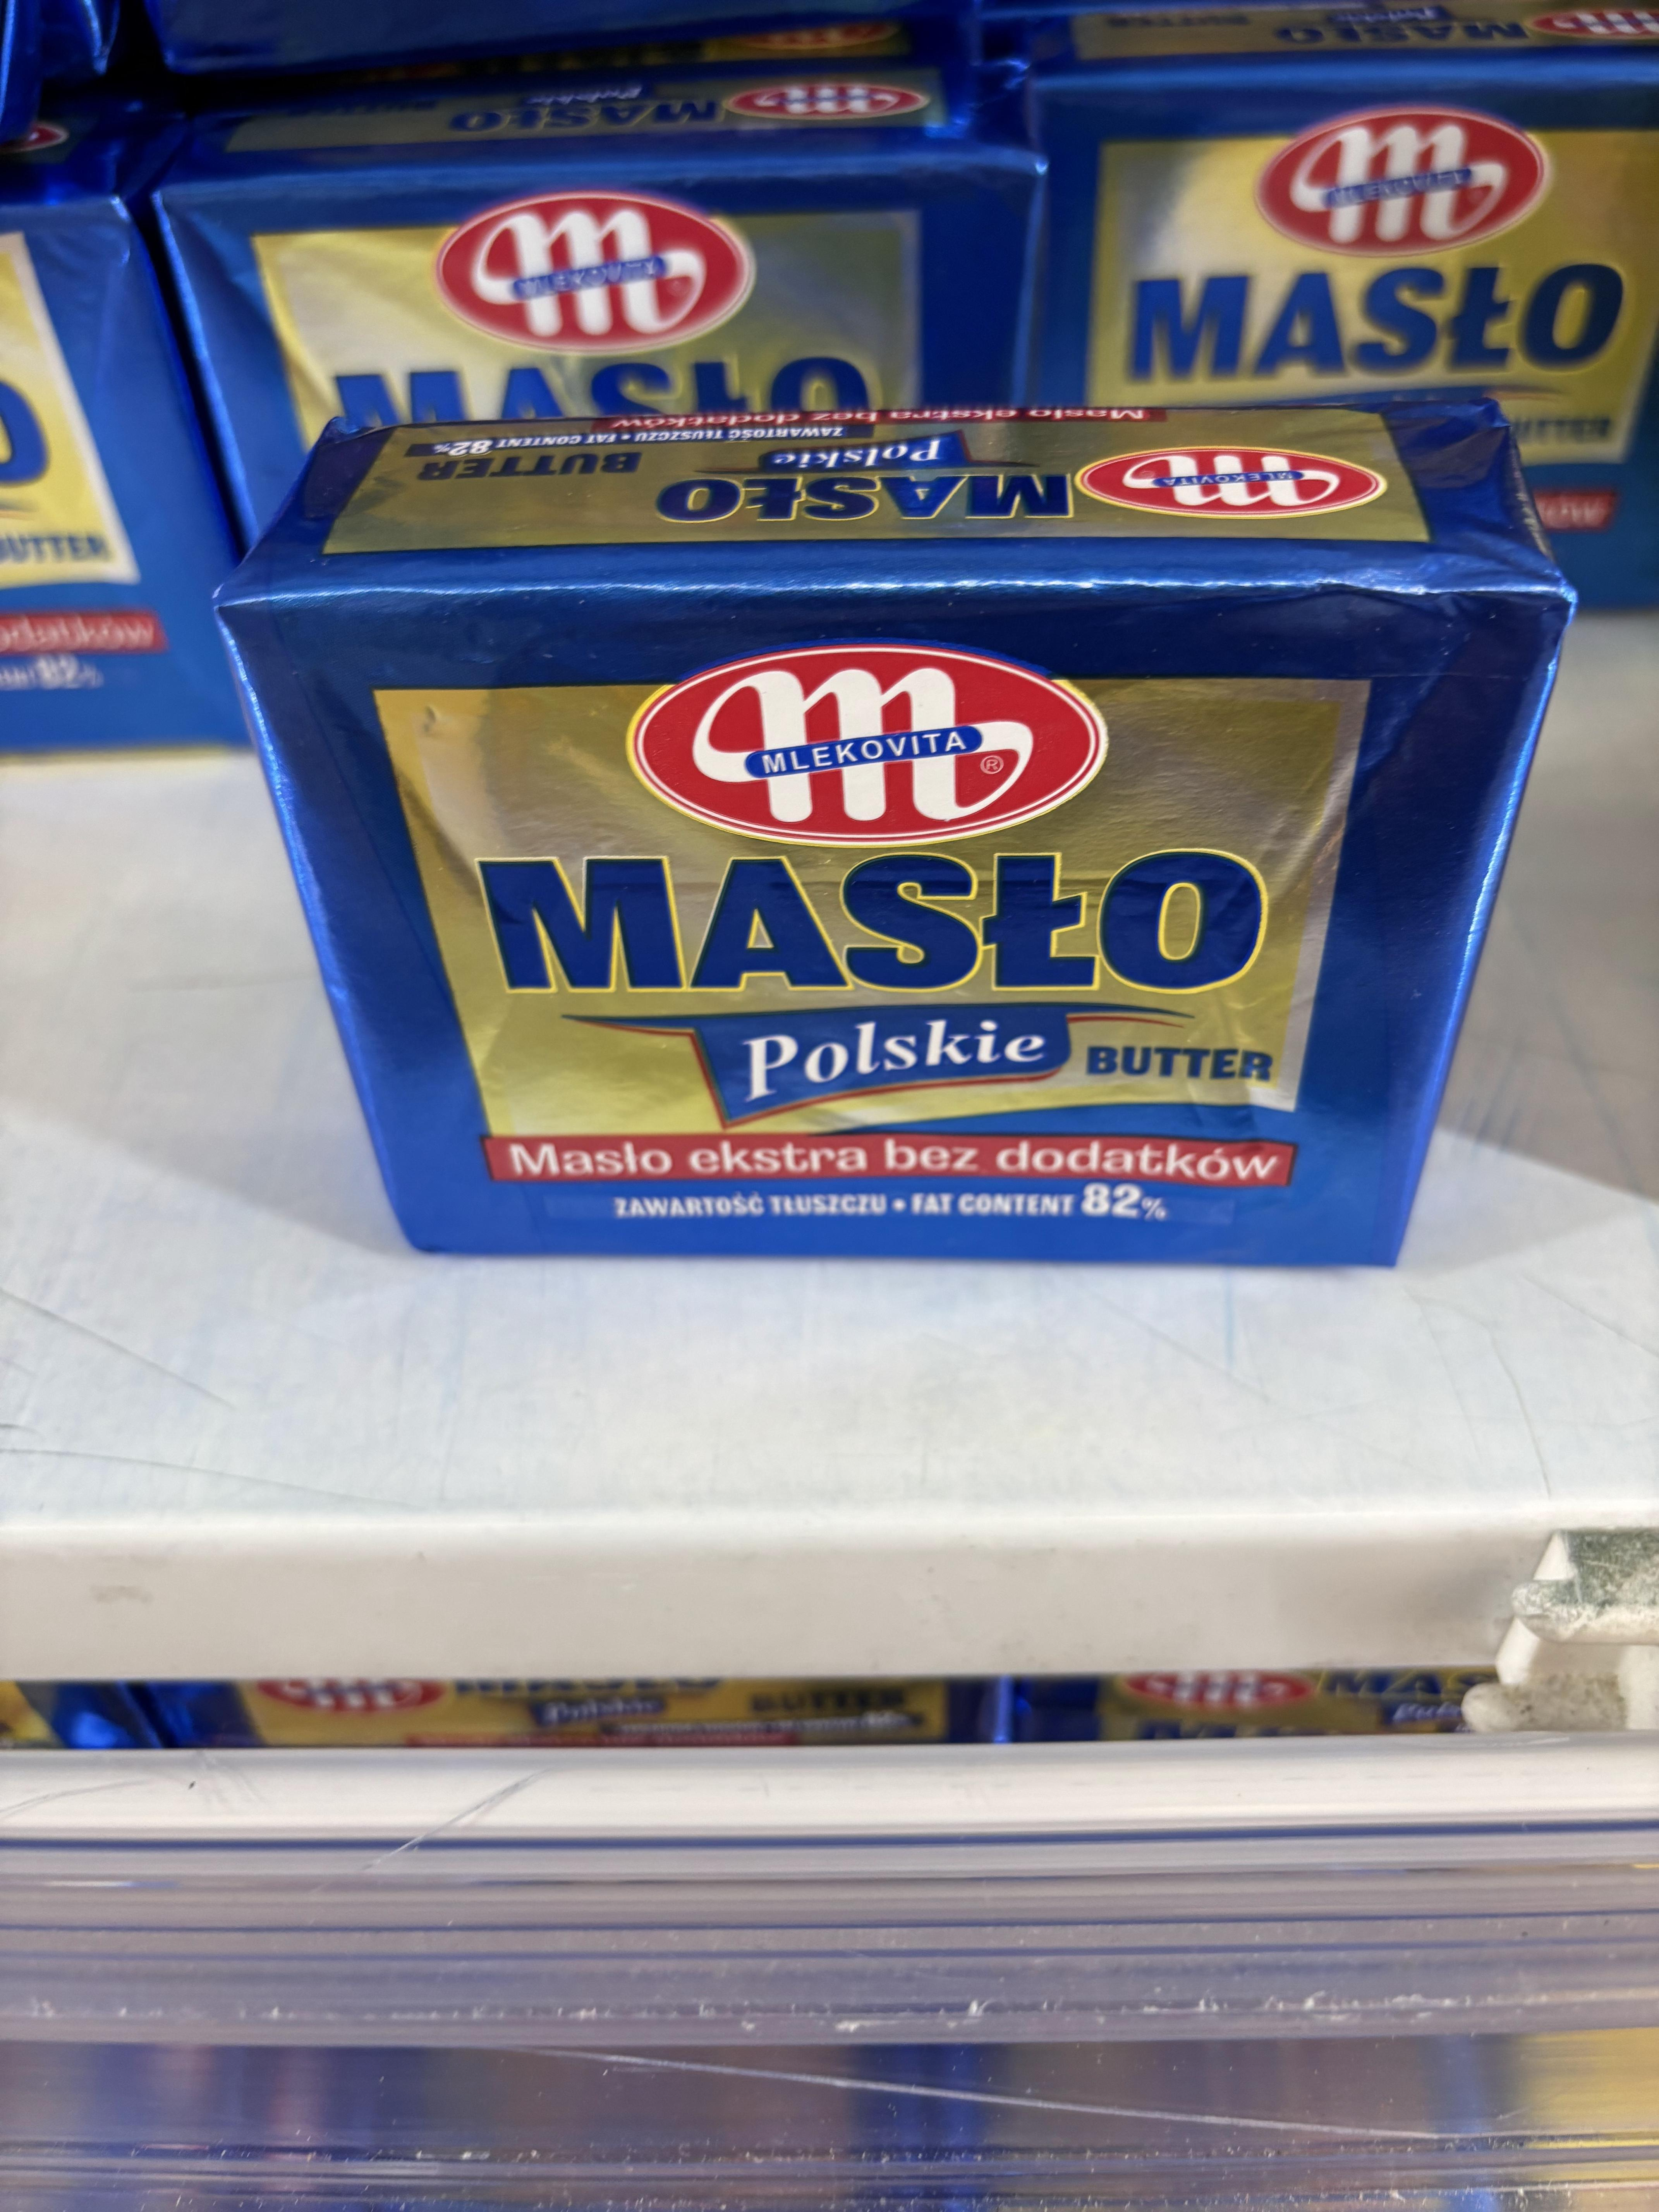Butter: (235, 437, 1544, 1233)
